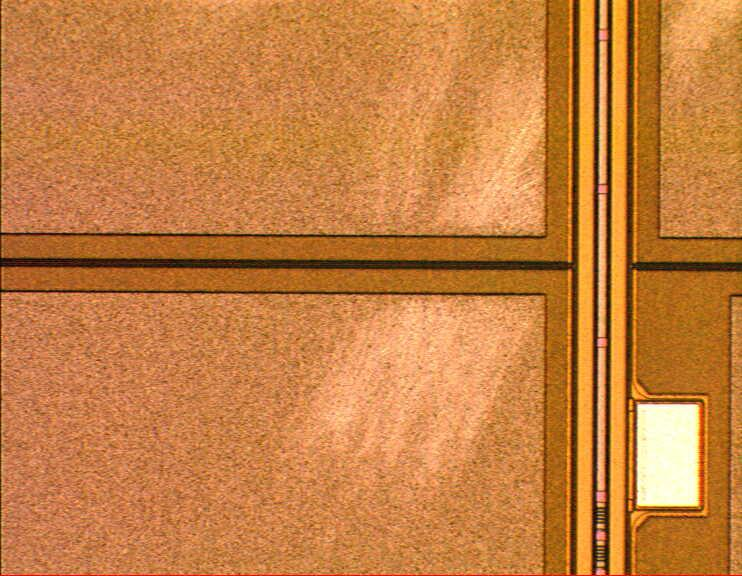SCRATCH: (265, 1, 742, 505)
